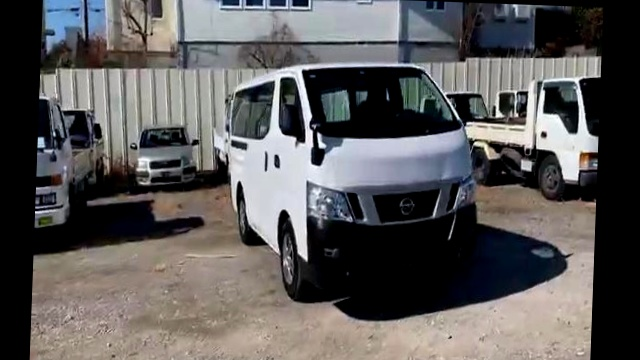van: (222, 57, 482, 301)
